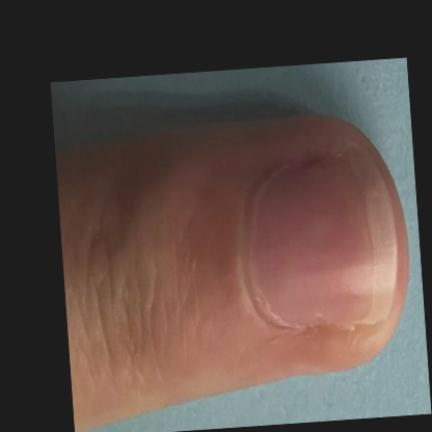Nail: (245, 143, 398, 329)
